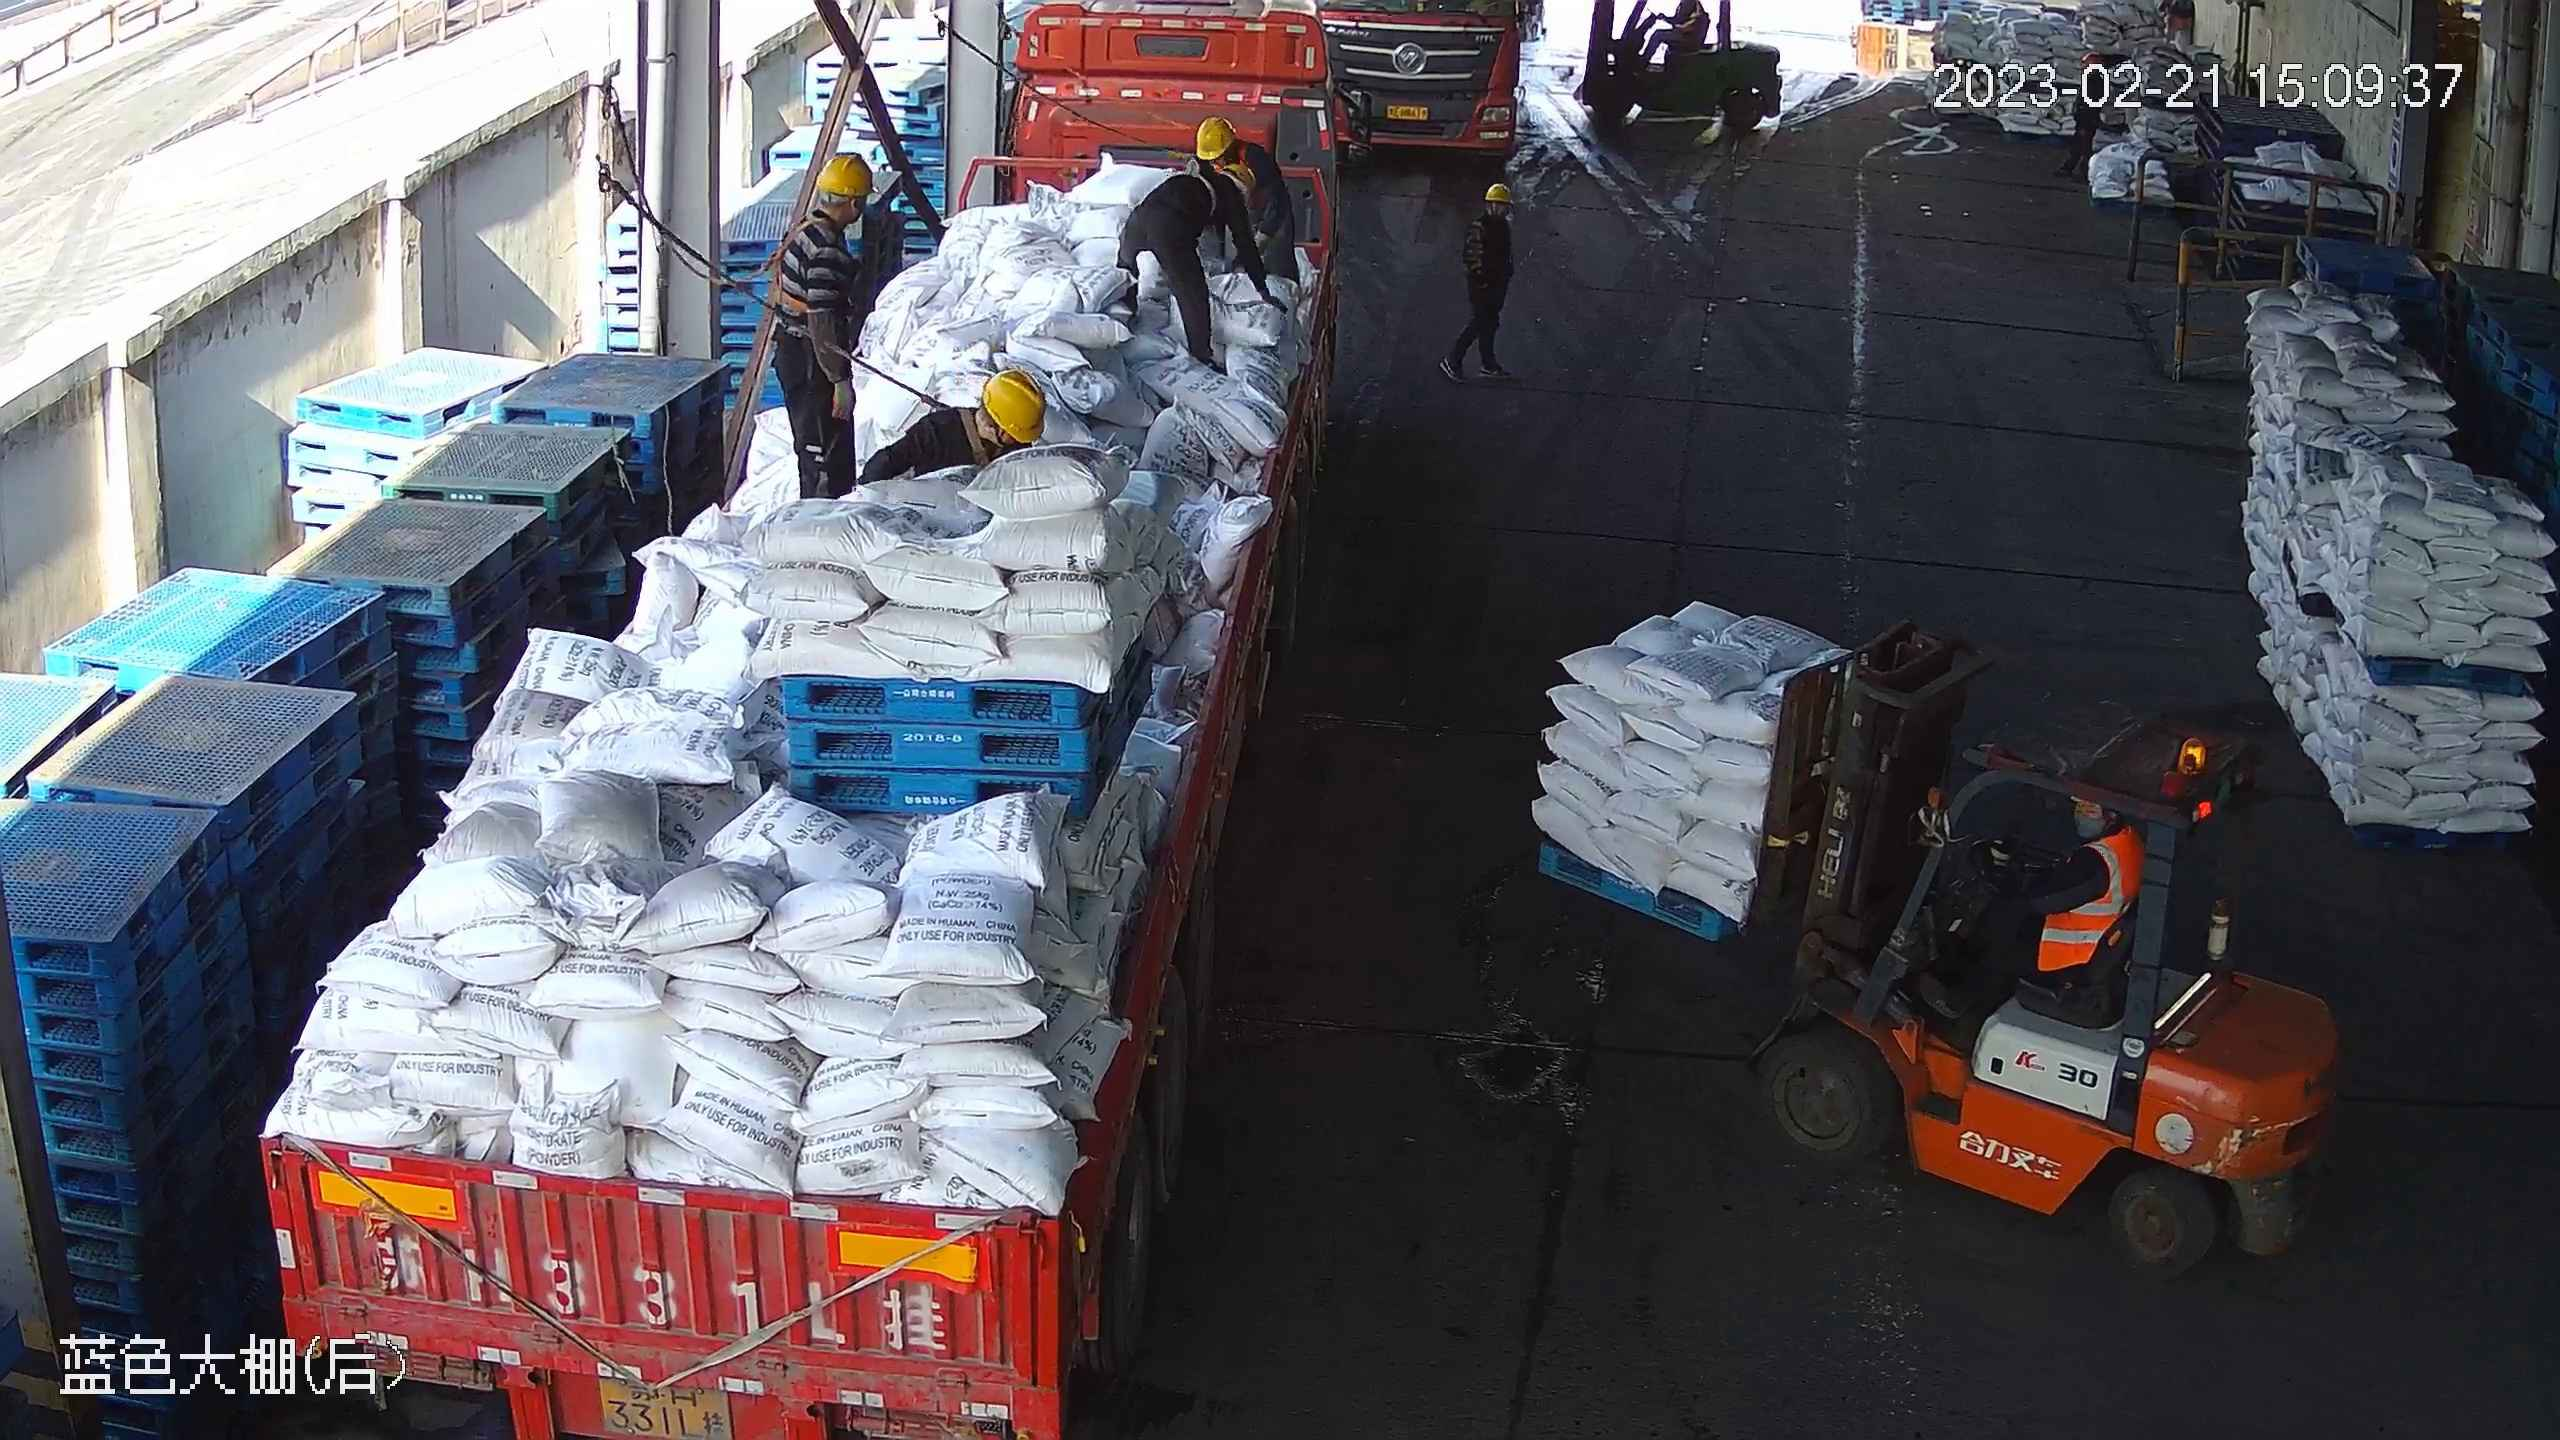belt: (919, 388, 1006, 470), (755, 216, 810, 321), (1210, 145, 1259, 170)
head: (898, 368, 1045, 464), (2017, 797, 2141, 904), (786, 151, 868, 271), (1194, 119, 1275, 187), (1184, 164, 1258, 226), (1457, 182, 1513, 258)
helmet: (982, 368, 1045, 454), (814, 151, 873, 203), (1193, 118, 1234, 162), (1485, 182, 1513, 205), (2080, 53, 2103, 68)
people: (1943, 789, 2138, 1027), (1114, 166, 1276, 390), (772, 150, 876, 492), (1190, 123, 1299, 278), (1441, 181, 1517, 387), (2062, 52, 2114, 189), (1635, 1, 1713, 72)
truck: (253, 1, 1341, 1432), (1315, 1, 1541, 163)
